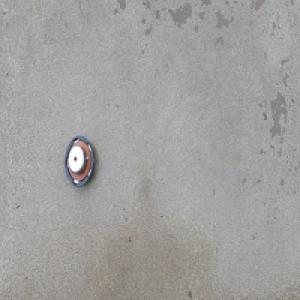FuelCap: (64, 135, 96, 191)
